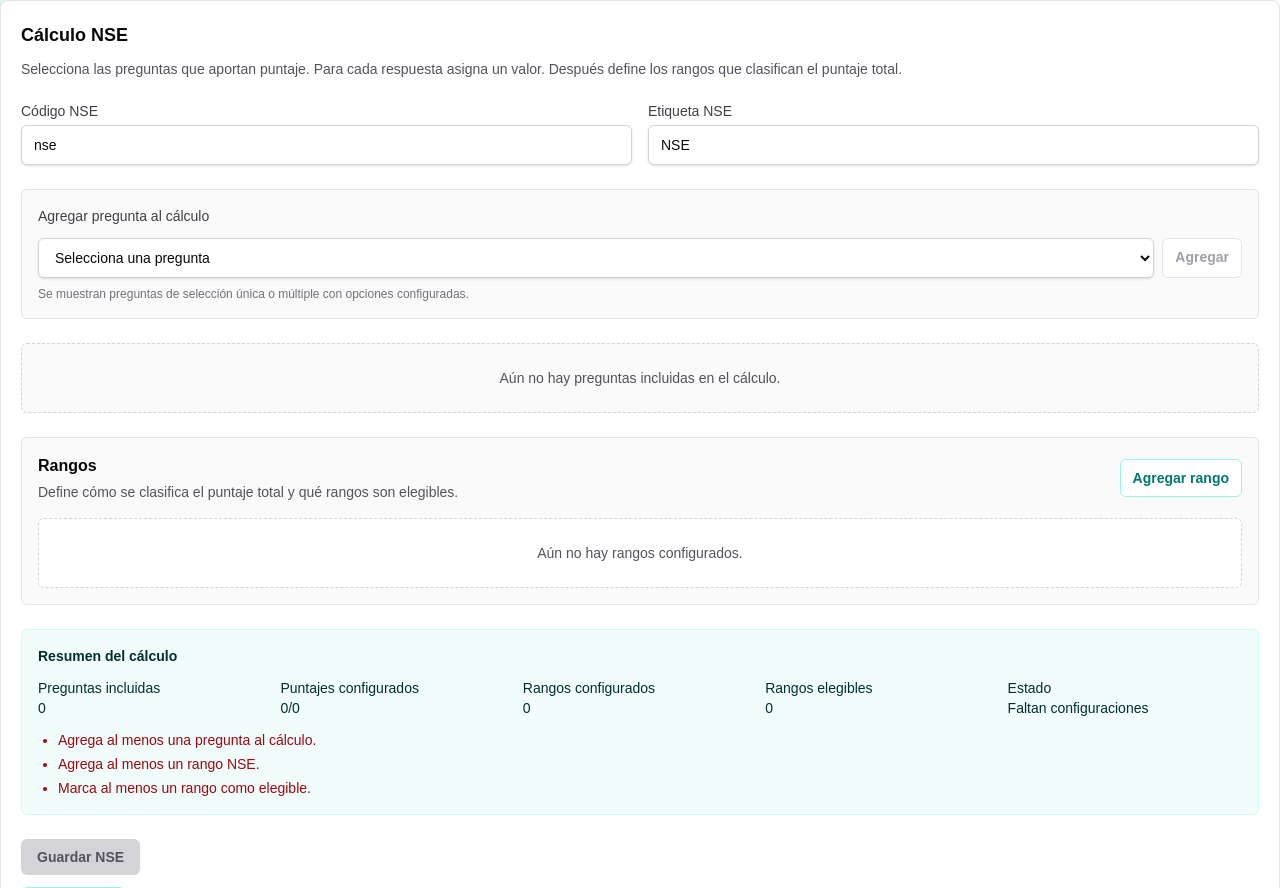
Test: NseGuidedEditor › no permite agregar la misma pregunta dos veces y genera filas por opcion
Select "Escolaridad" in the dropdown: (596, 258) [38,238,1154,278]
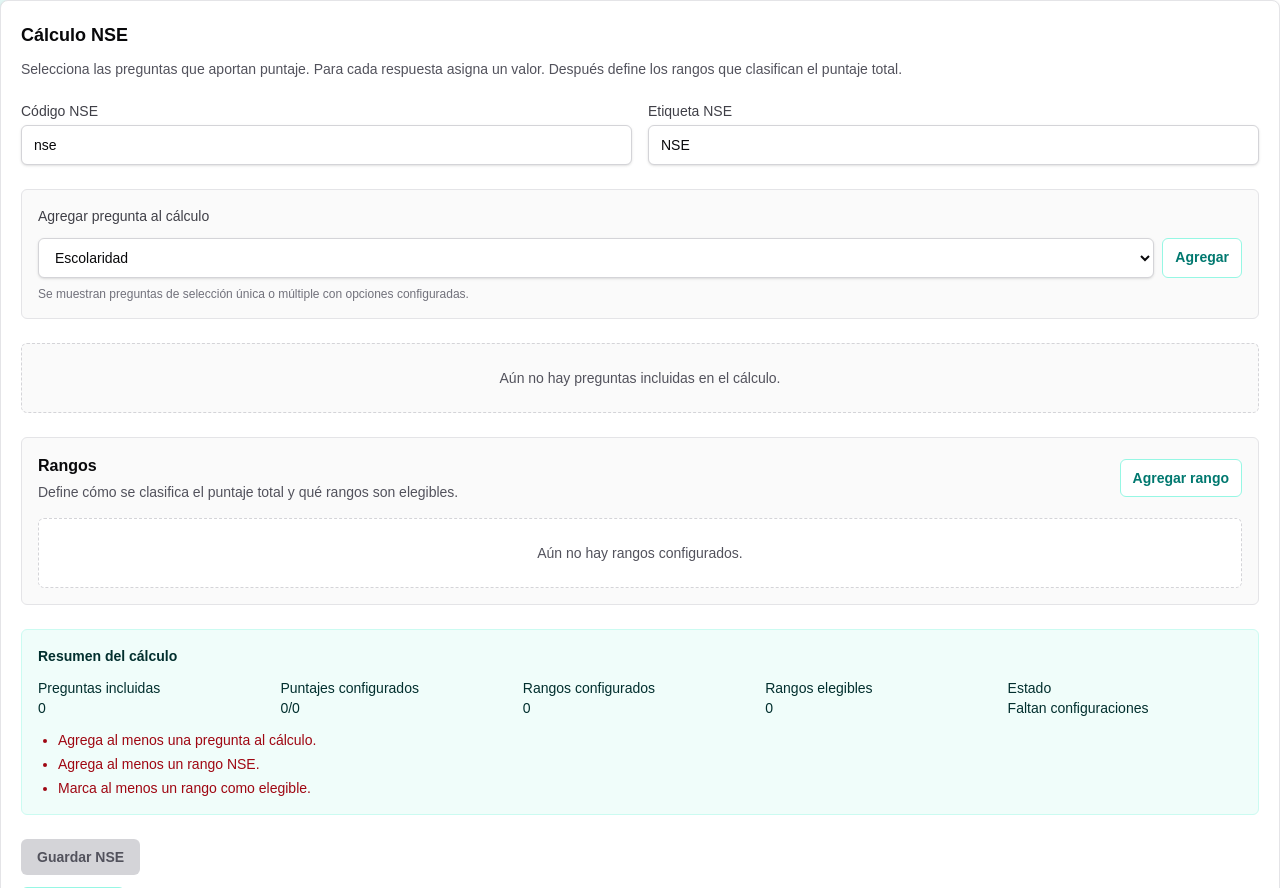
Click the button "Agregar": click(1202, 258) [1162,238,1242,278]
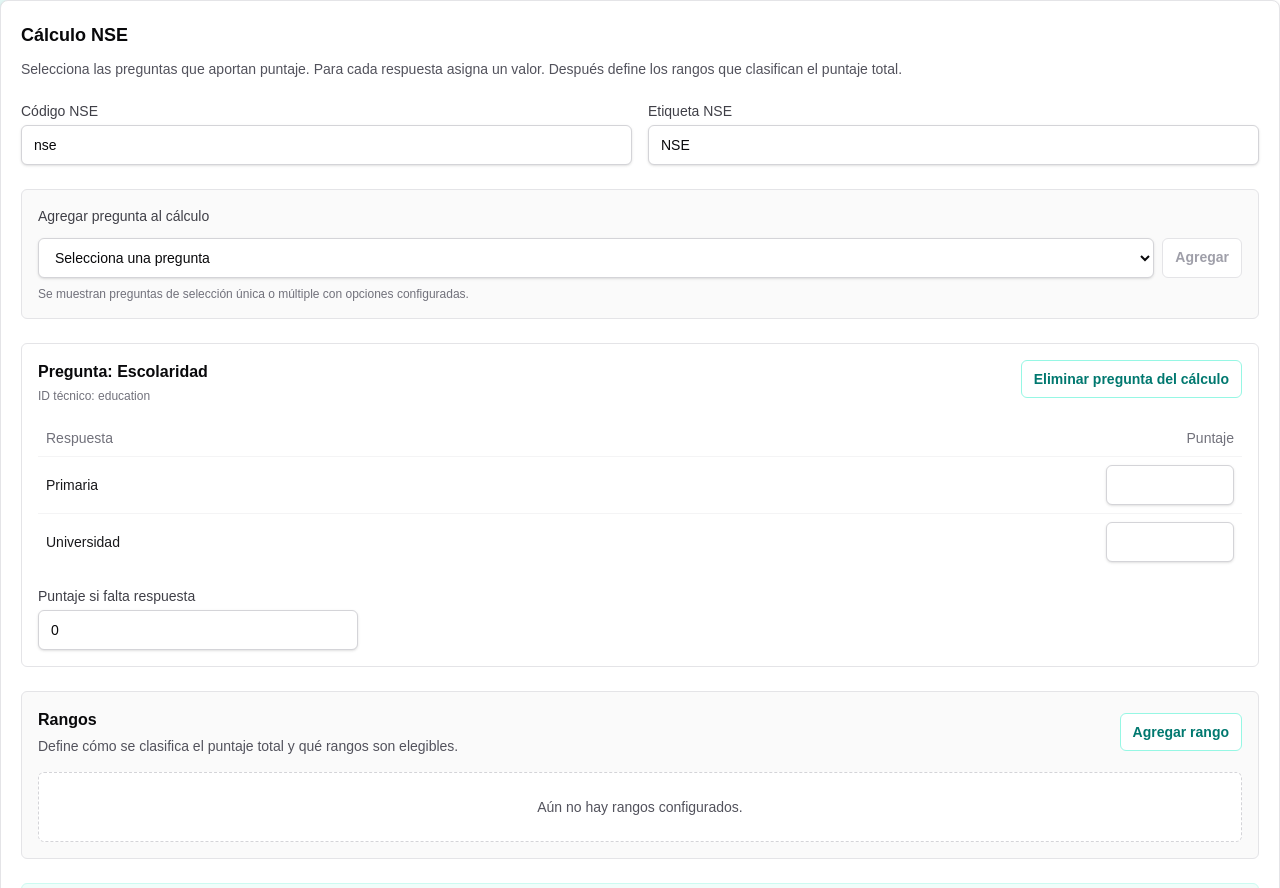
Expected: the heading "Pregunta: Escolaridad" is shown, [38,360,208,384]
Expected: the text "Primaria" is shown, [38,456,1098,514]
Expected: the text "Universidad" is shown, [38,514,1098,570]
